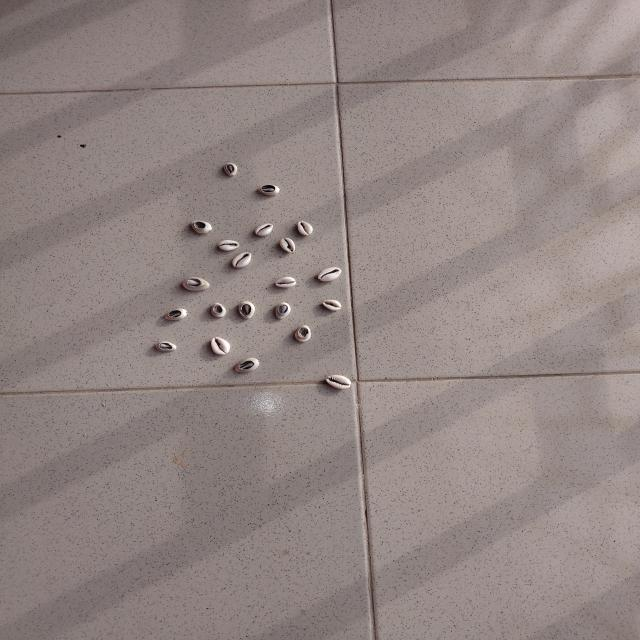facedown: (180, 275, 211, 293), (231, 357, 262, 374), (188, 219, 214, 235), (293, 324, 312, 344), (164, 307, 189, 322), (219, 162, 242, 178), (152, 340, 178, 354), (238, 300, 256, 320), (272, 301, 290, 320), (256, 184, 282, 197), (210, 302, 226, 318)
faceup: (325, 372, 354, 391), (316, 264, 342, 284), (208, 336, 230, 356), (231, 252, 253, 270), (253, 221, 275, 238), (322, 298, 344, 314), (296, 219, 315, 237), (275, 275, 297, 289), (218, 239, 241, 252), (279, 236, 295, 254)
